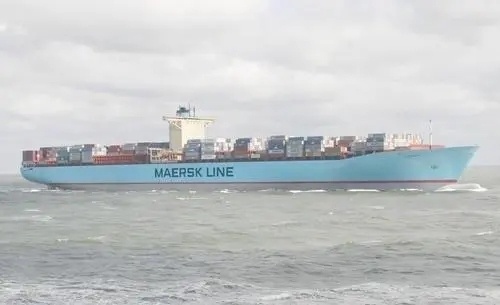Cargoship: (17, 104, 486, 189)
